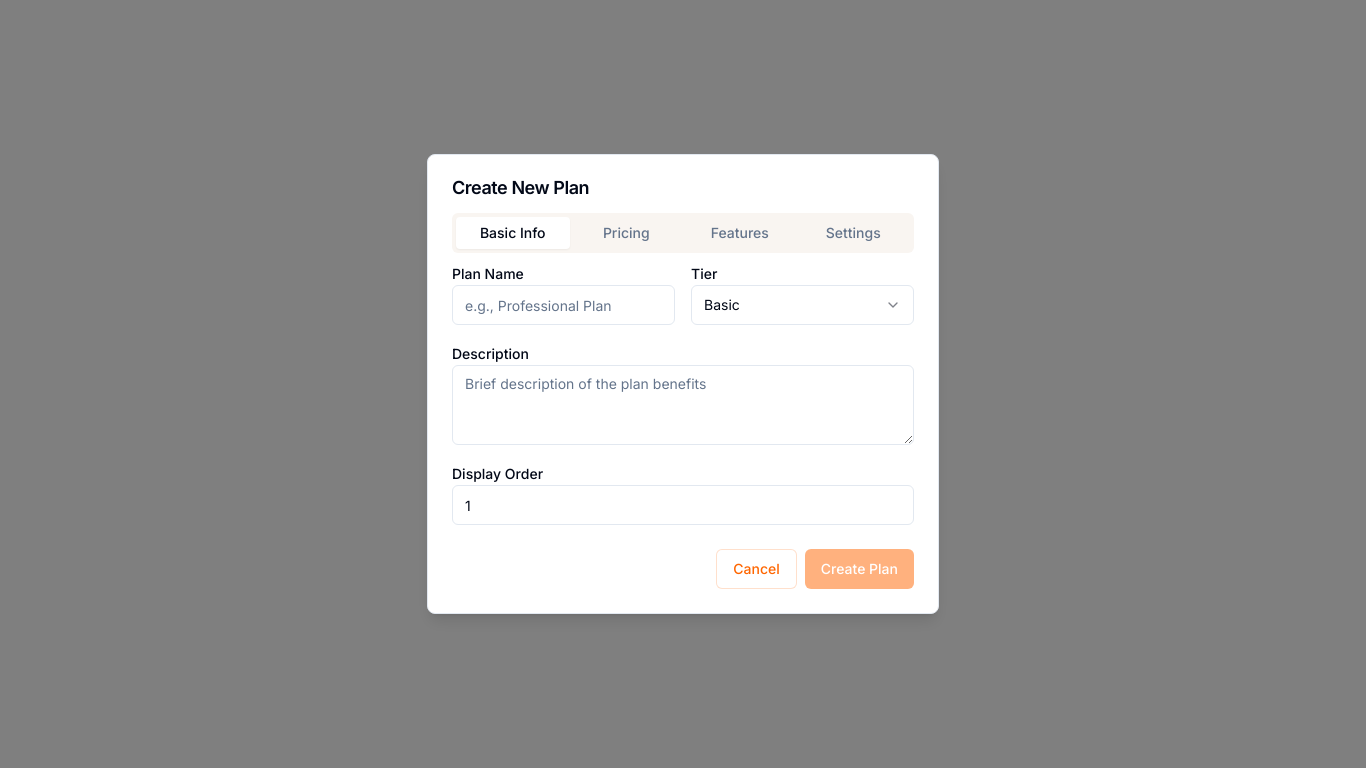
Test case: PlanFormModal Component › Form Validation › should enable save button when required fields are filled
Note: Fill required fields
Step 1. Type "Test Plan" into the field labelled "Plan Name" → coordinates (564, 305), box top-left (452, 285), bottom-right (675, 325)
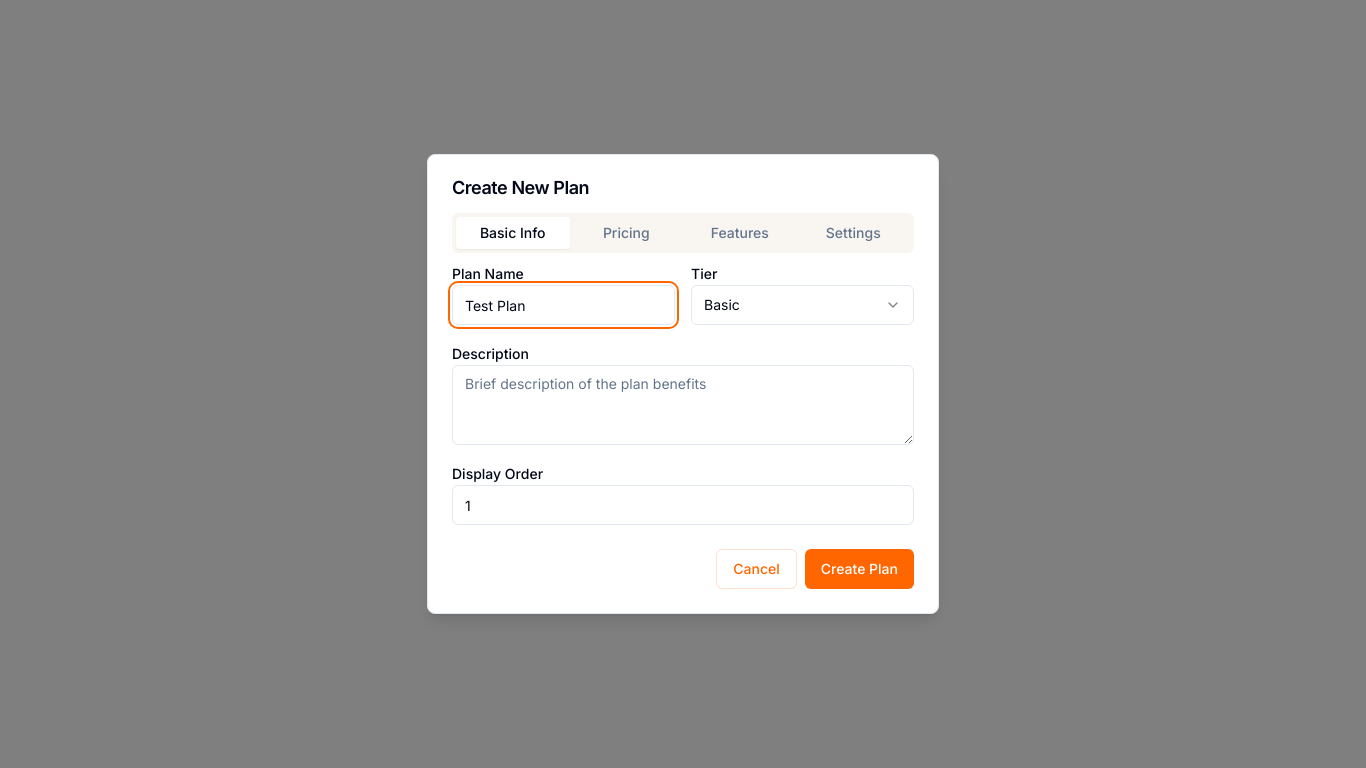
Check: the button "Create Plan" is enabled, box top-left (805, 549), bottom-right (914, 589)
